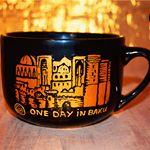cups: (1, 31, 150, 130)
